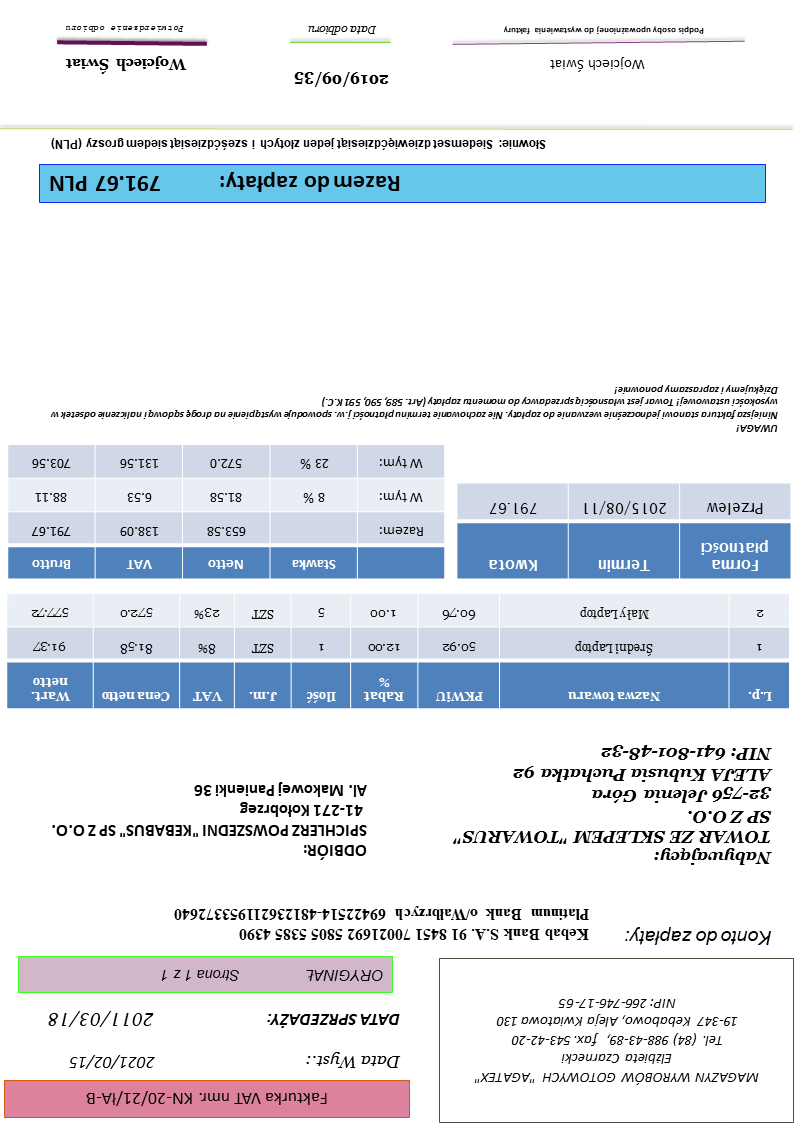Table: (6, 592, 792, 713), (6, 442, 448, 579), (456, 480, 792, 581)
TextBox: (452, 740, 775, 868), (48, 383, 781, 437), (469, 995, 764, 1086), (45, 781, 371, 862), (172, 902, 594, 947), (48, 135, 552, 156), (47, 170, 407, 199), (82, 1089, 334, 1110), (154, 965, 386, 987), (622, 927, 778, 950), (267, 1007, 404, 1032), (61, 53, 194, 77), (499, 24, 708, 38), (45, 1009, 157, 1033), (68, 1050, 156, 1077), (290, 69, 394, 91), (301, 1051, 404, 1073), (548, 55, 651, 77), (63, 22, 188, 37), (306, 22, 379, 41)
